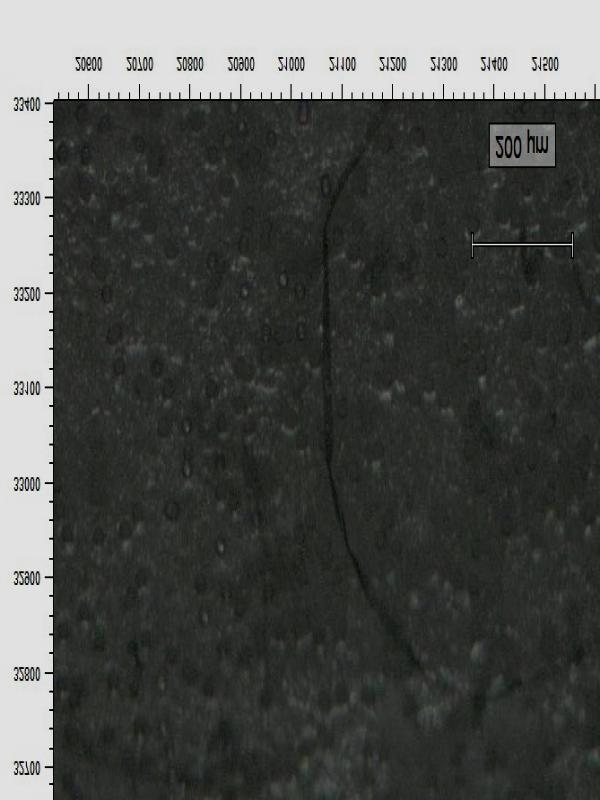microplastic: (48, 97, 597, 800), (318, 108, 596, 734)
